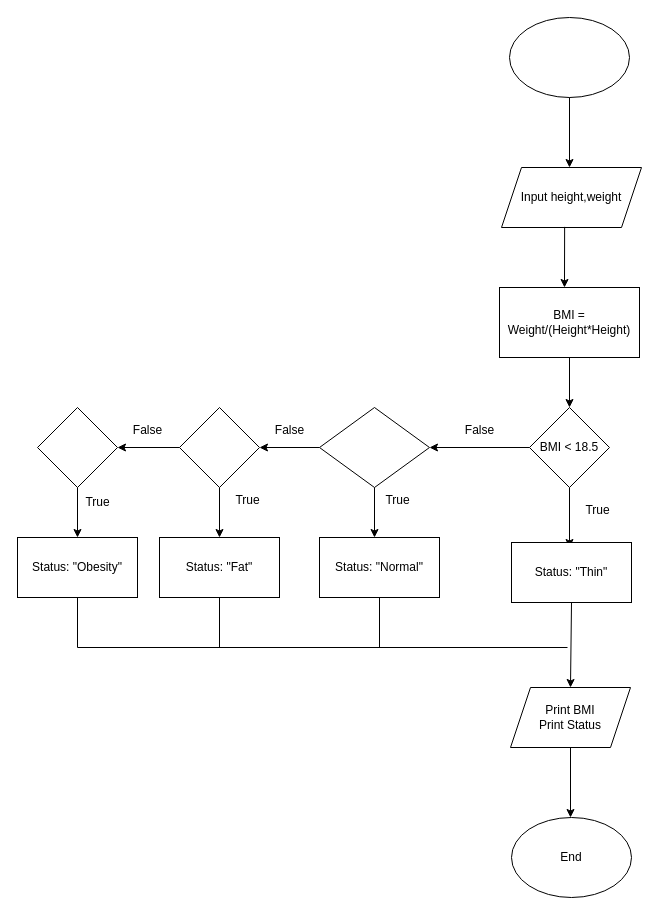
Some shapes in this 659 by 915 pixel diagram are drawn without their labels. The shapes that lost their labels are listed below. From the top down, each one's box as (x1, y1, x2, y2) in pixels, then its label:
(508, 16, 630, 98): Start
(36, 406, 118, 488): BMI ≥ 30
(178, 406, 260, 488): 25 ≤ BMI < 29.9
(318, 406, 430, 488): 18.5 ≤ BMI < 24.9
